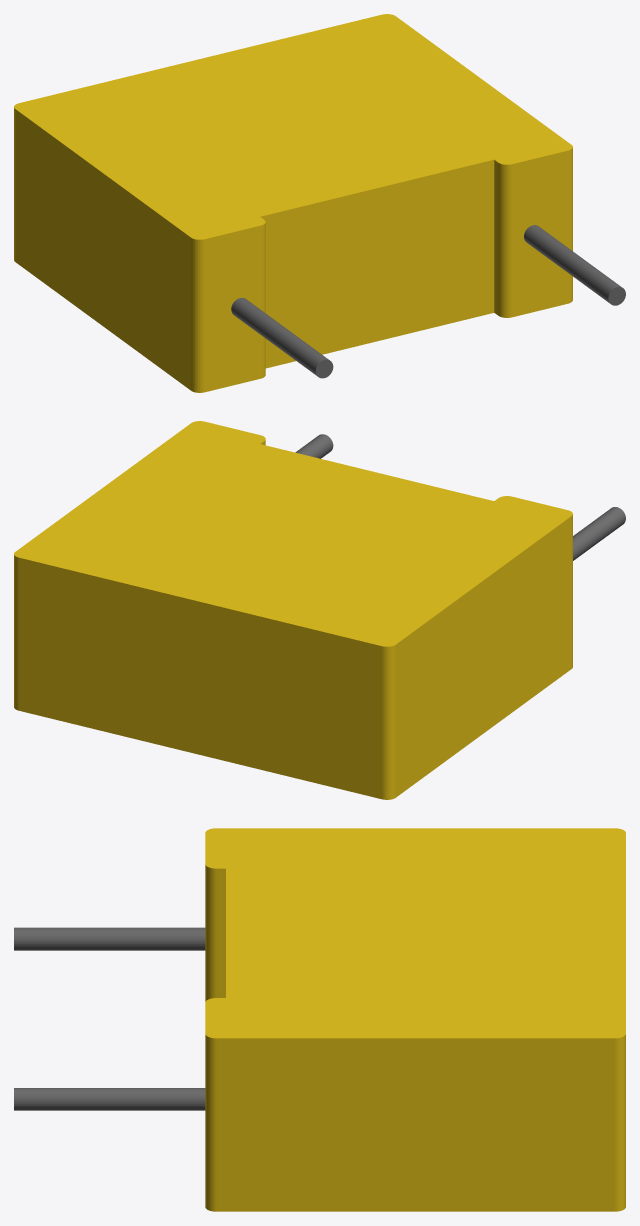
File: MKM.fbx
3 renders of one model, top to bottom at view 1: azimuth 30°, elevation 25°; view 2: azimuth 150°, elevation 25°; view 3: azimuth 270°, elevation 25°, orthographic. The views are drawn at different scales.
Visible parts, largest first — view 1: MKM Capacitor; view 2: MKM Capacitor; view 3: MKM Capacitor.
Boxes of the visible parts, x1,y1,x2,y2 form: MKM Capacitor: [14, 14, 625, 392]; MKM Capacitor: [14, 421, 625, 799]; MKM Capacitor: [14, 828, 625, 1211].
Size of the model in its own units: 1300 by 500 by 1600.
